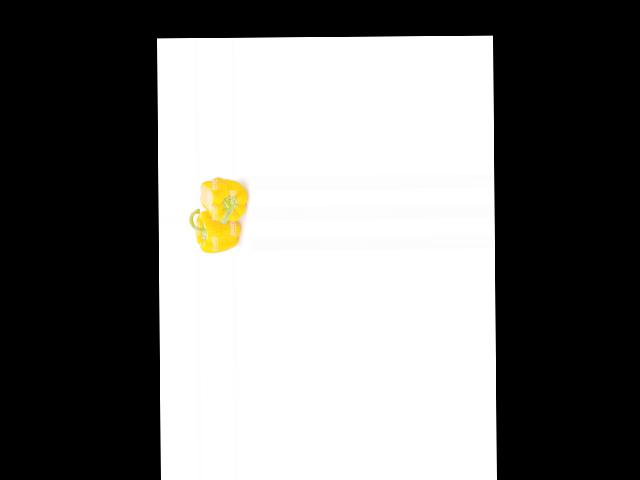bell_pepper: (190, 206, 242, 254)
